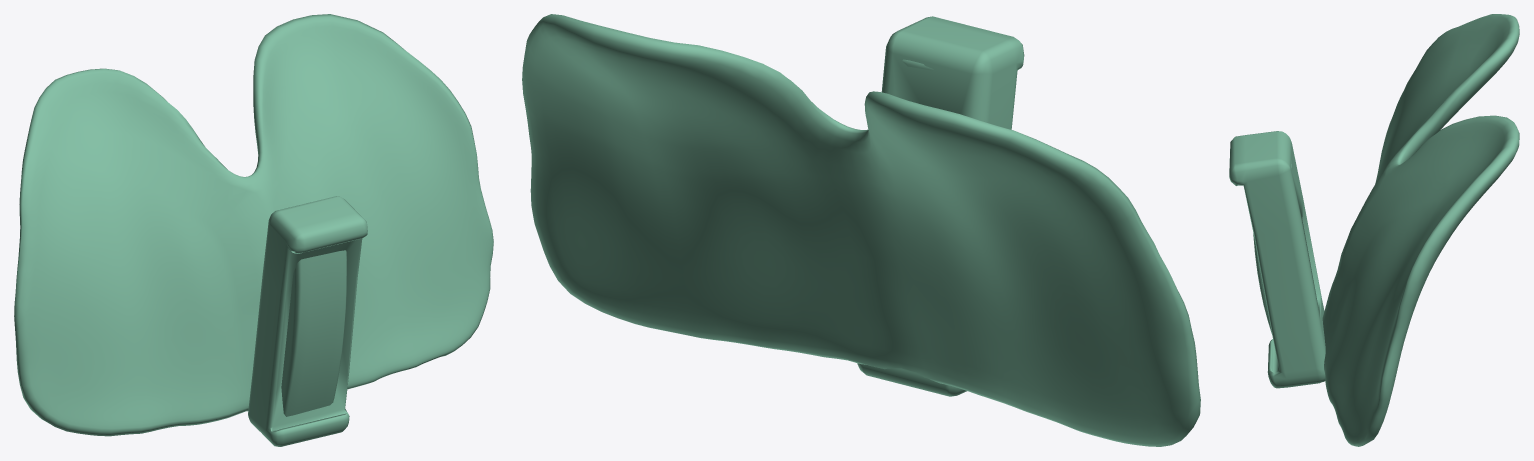
File: TR1_Spacers_BaguetteMetal.001 2.glb
3 renders of one model, left to right at view 1: azimuth 30°, elevation 25°; view 2: azimuth 150°, elevation 25°; view 3: azimuth 270°, elevation 25°, orthographic. The views are drawn at different scales.
Parts seen in each view (by area): view 1: TR1_Spacers_BaguetteMetal.001; view 2: TR1_Spacers_BaguetteMetal.001; view 3: TR1_Spacers_BaguetteMetal.001.
Part boxes in pixels (bbox=[...]): TR1_Spacers_BaguetteMetal.001: bbox=[14, 14, 493, 446]; TR1_Spacers_BaguetteMetal.001: bbox=[522, 14, 1200, 446]; TR1_Spacers_BaguetteMetal.001: bbox=[1229, 14, 1519, 446].
Bounding box in the file's own units: 1.46 × 0.8975 × 0.7956.
